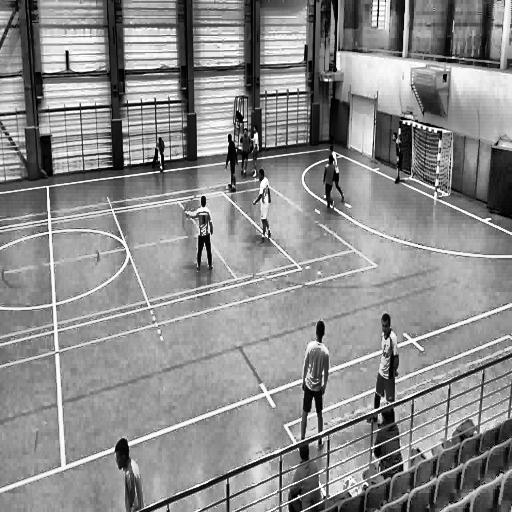ball: (158, 164, 165, 175)
player: (297, 314, 330, 456), (369, 309, 400, 425), (360, 406, 406, 484), (112, 427, 148, 512), (287, 436, 325, 510), (182, 195, 214, 273), (252, 167, 273, 248), (325, 142, 346, 205), (223, 131, 238, 192), (322, 154, 336, 217), (391, 128, 404, 190), (150, 133, 167, 172), (240, 126, 251, 180), (251, 121, 260, 177)
